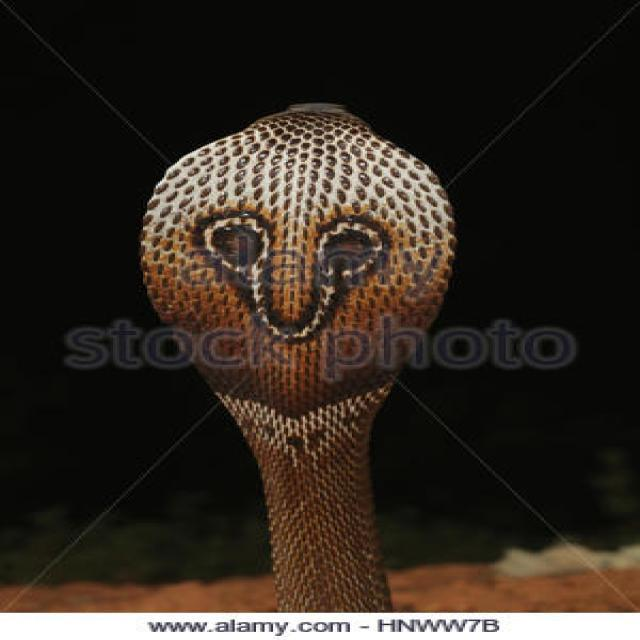Snake: (124, 94, 463, 620)
